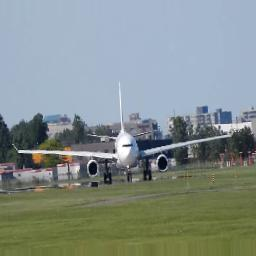Airplane: (10, 104, 236, 183)
